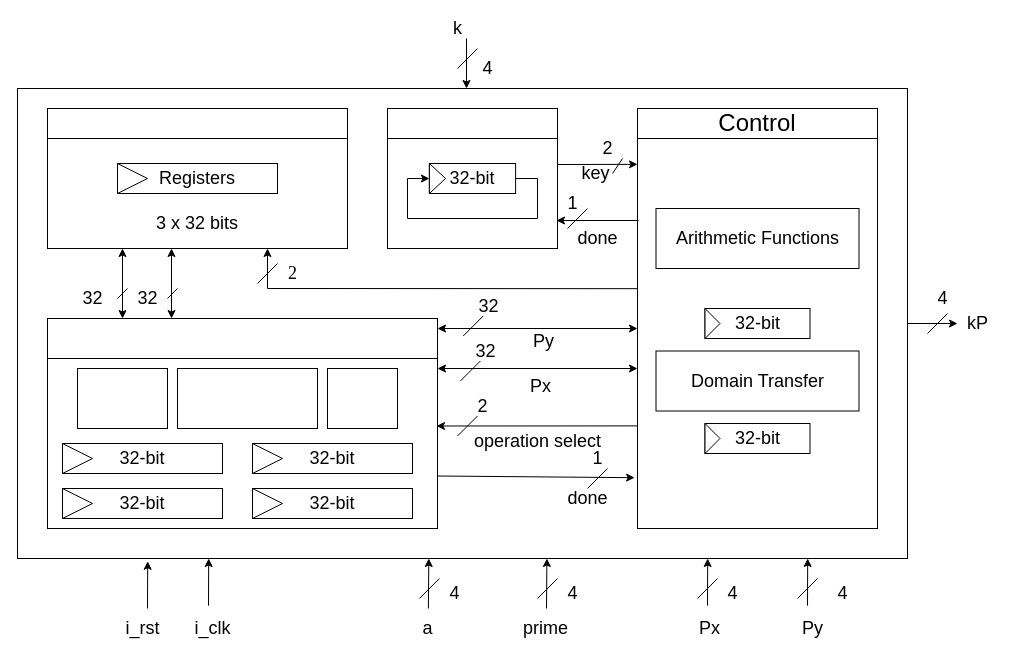
This 1015x656 diagram has some shape labels left out. The centre of each missing label's shape, as x and y in pixels:
"Adder/Subtractor" goes at (x=247, y=398).
"Divisor" goes at (x=362, y=398).
"Galois Field Arithmetic Unit" goes at (x=242, y=338).
"Key Shift" goes at (x=472, y=123).
"Lookup Table" goes at (x=197, y=123).
"Multiplier" goes at (x=122, y=398).
